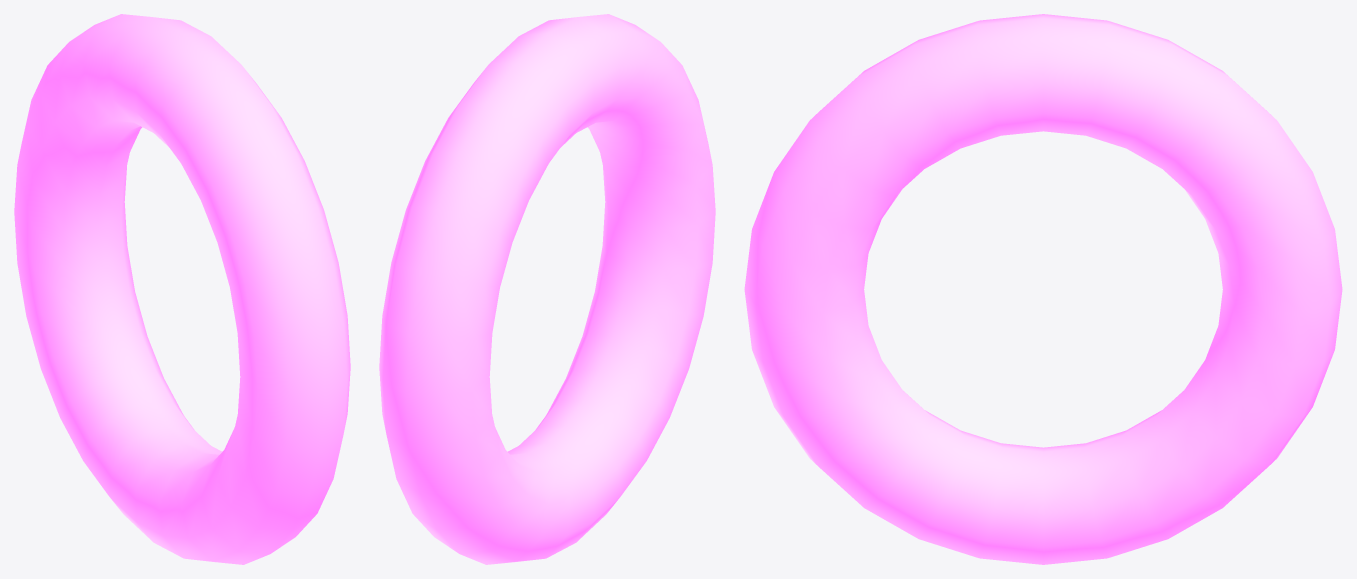
The model's file is wristband.glb.
The picture shows the model from 3 angles, left to right: view 1: azimuth 30°, elevation 25°; view 2: azimuth 150°, elevation 25°; view 3: azimuth 270°, elevation 25°; orthographic projection. The views are drawn at different scales.
Parts seen in each view (by area): view 1: wristband; view 2: wristband; view 3: wristband.
Part boxes in pixels (left/top/right/bottom): wristband: left=14, top=14, right=350, bottom=564; wristband: left=379, top=14, right=715, bottom=564; wristband: left=744, top=14, right=1342, bottom=564.
Bounding box in the file's own units: 0.0152 × 0.08 × 0.08.
